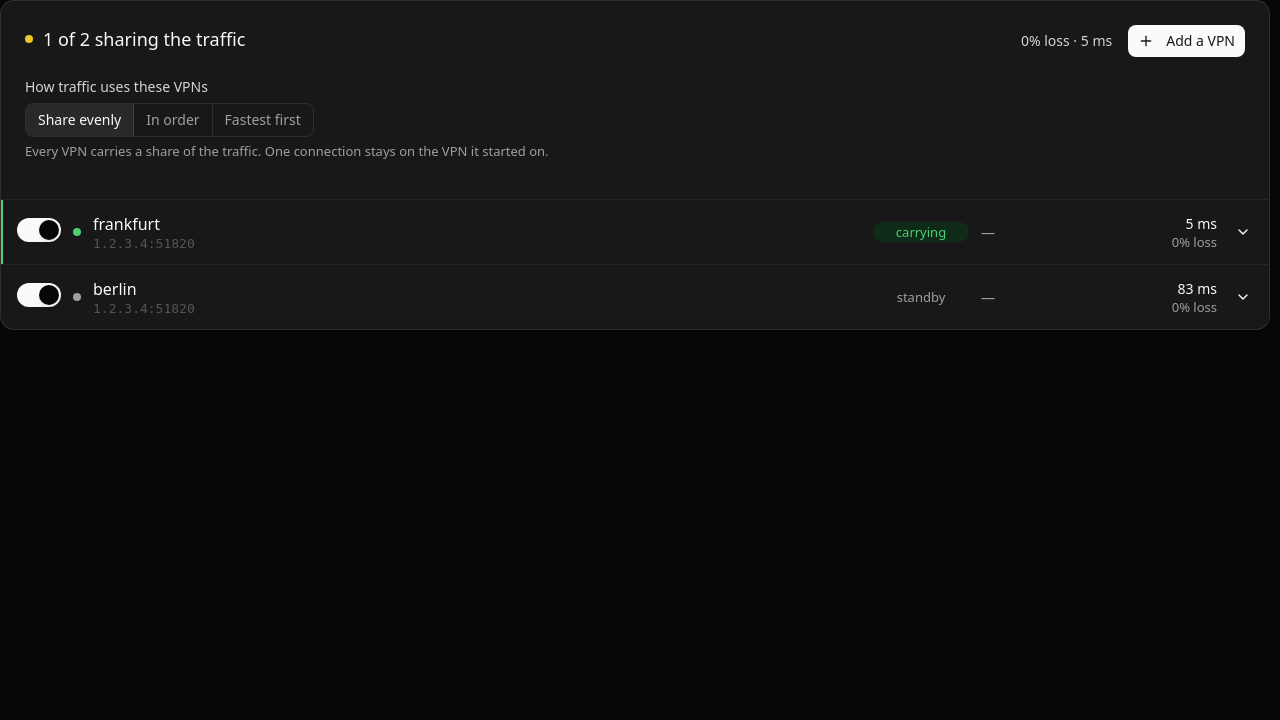
Test: the row's details › opens one row at a time
Click the button named "Details for frankfurt" at (1243, 232), box [1229,218,1257,246]
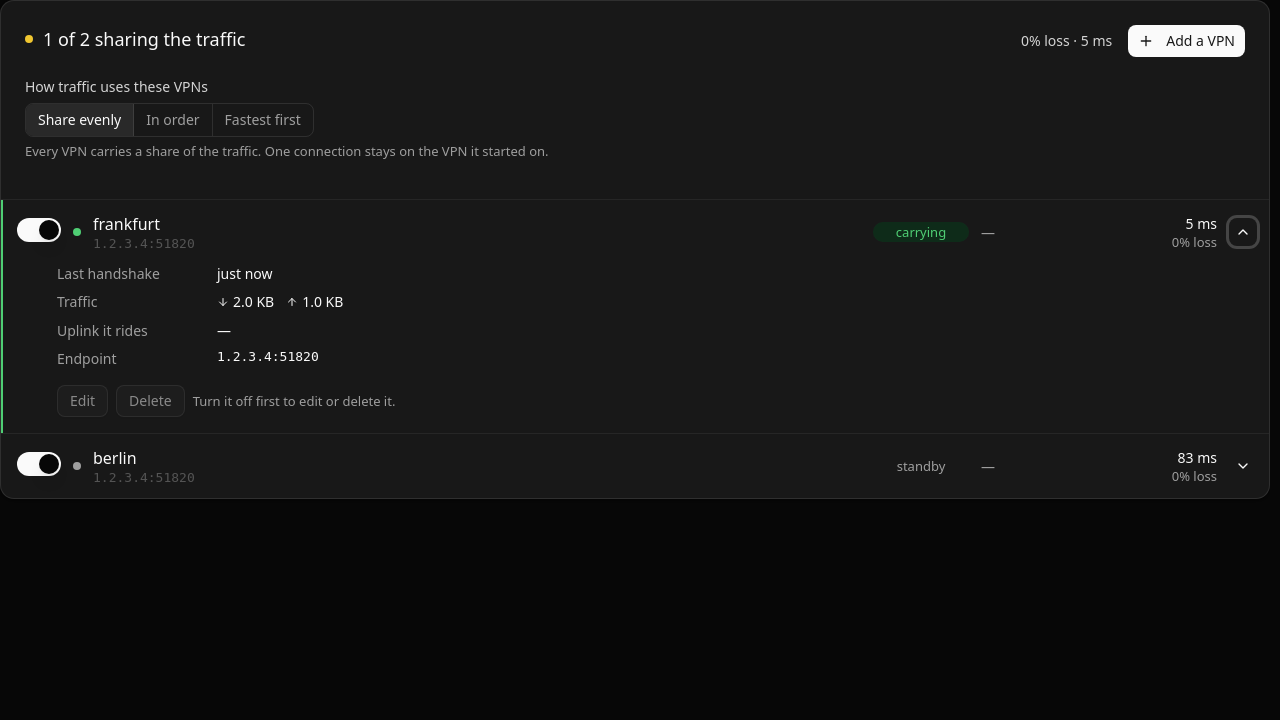
Click the button named "Details for berlin" at (1243, 466), box [1229,452,1257,480]
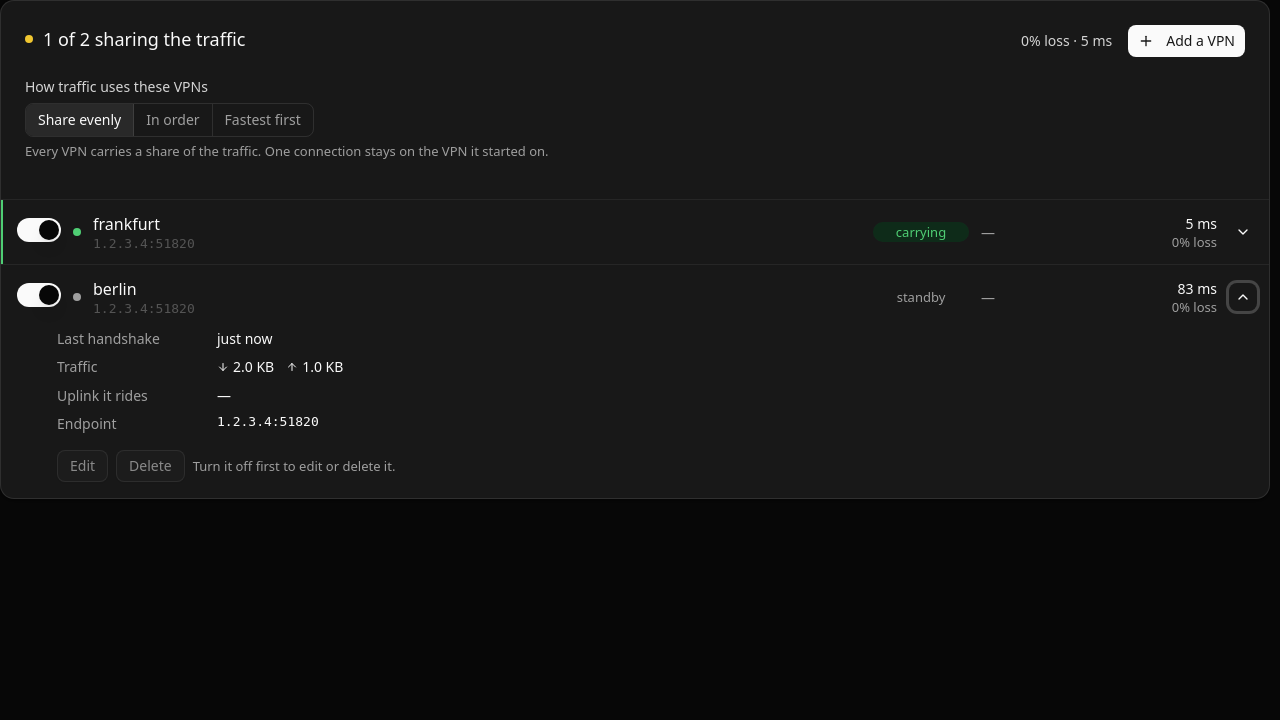
Check: the button named "Details for frankfurt" is collapsed, box [1229,218,1257,246]
